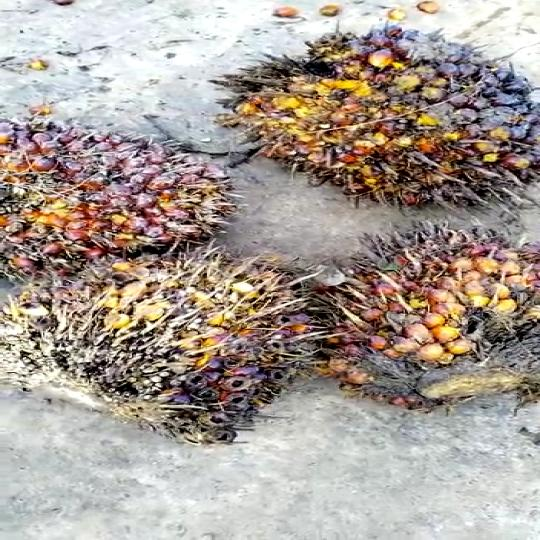masak: (0, 246, 313, 464), (197, 16, 540, 204), (284, 202, 540, 428), (0, 117, 227, 269)
